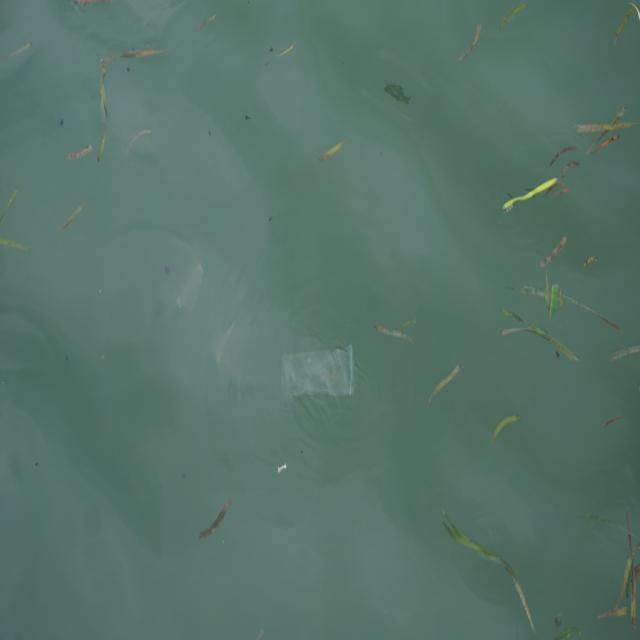Kantong Plastik: (278, 337, 361, 410)
